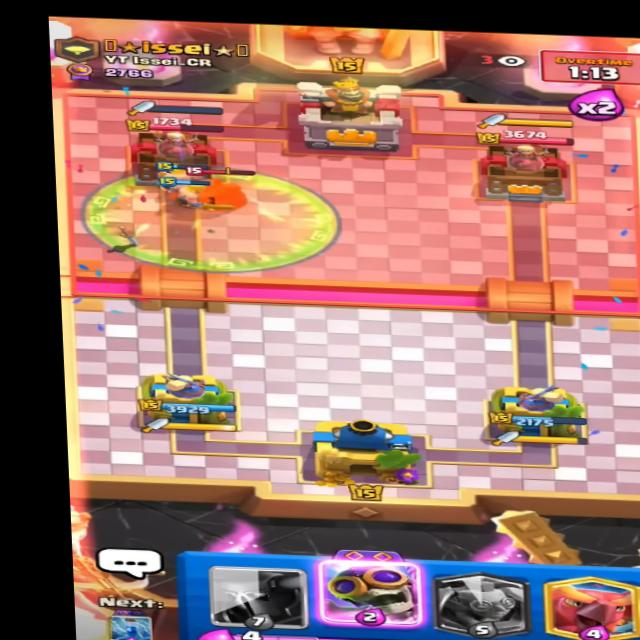goblin-demolisher: (188, 164, 275, 219)
